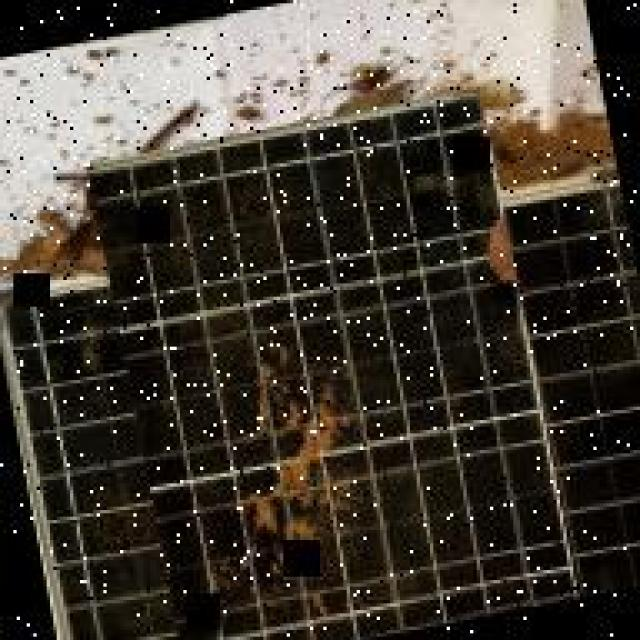dust-solar-panel: (0, 99, 640, 640)
